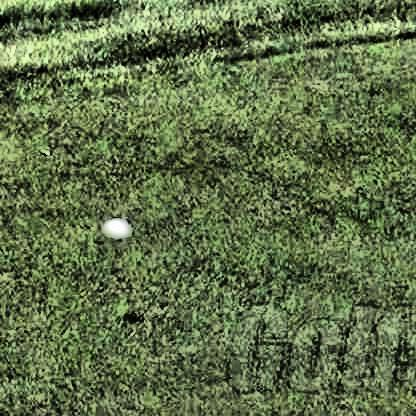golfball: (99, 215, 131, 239)
